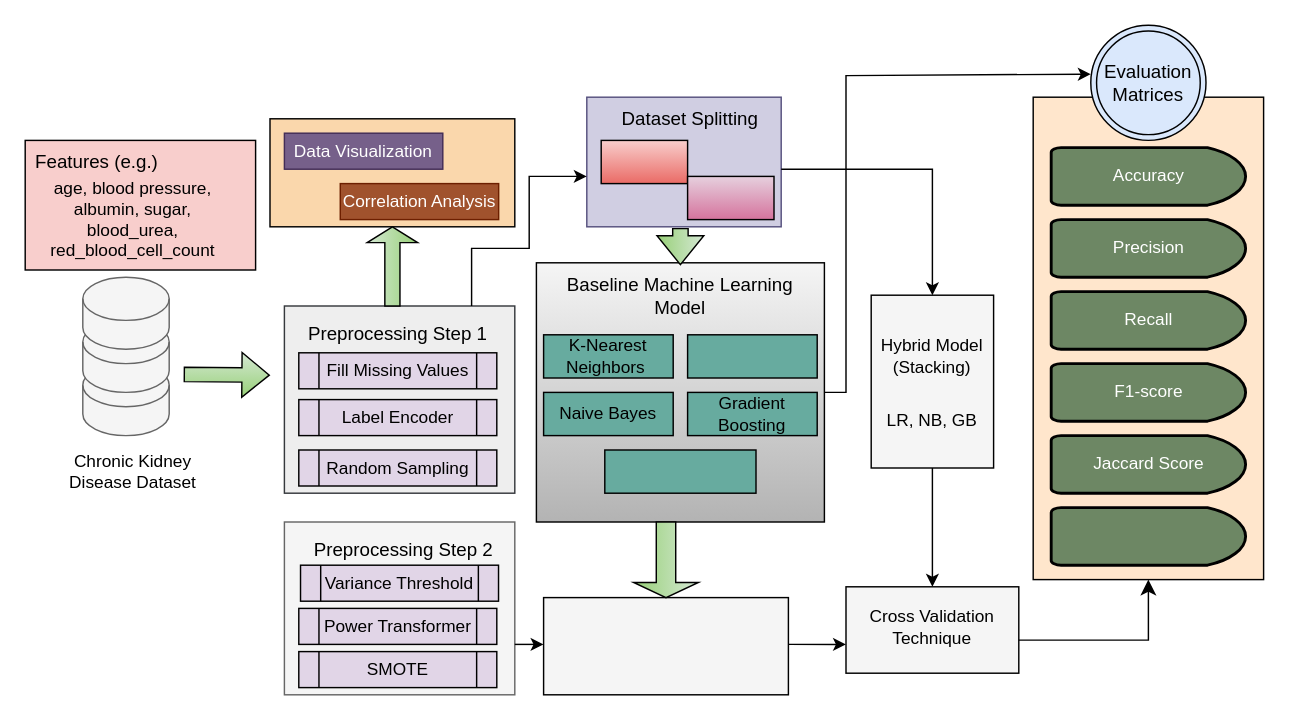
Image size: 1289x720. Some labels were removed from this diagram. The centre of each missing label's shape, as x and y in pixels:
AUC-ROC Curve: (1147,535)
Decision Tree: (751,355)
Logistic Regression: (679,471)
Optimized Model using Hyperparameter Tuning (Grid Search CV): (665,645)
Test Data 20%: (730,197)
Train Data 80%: (644,161)
